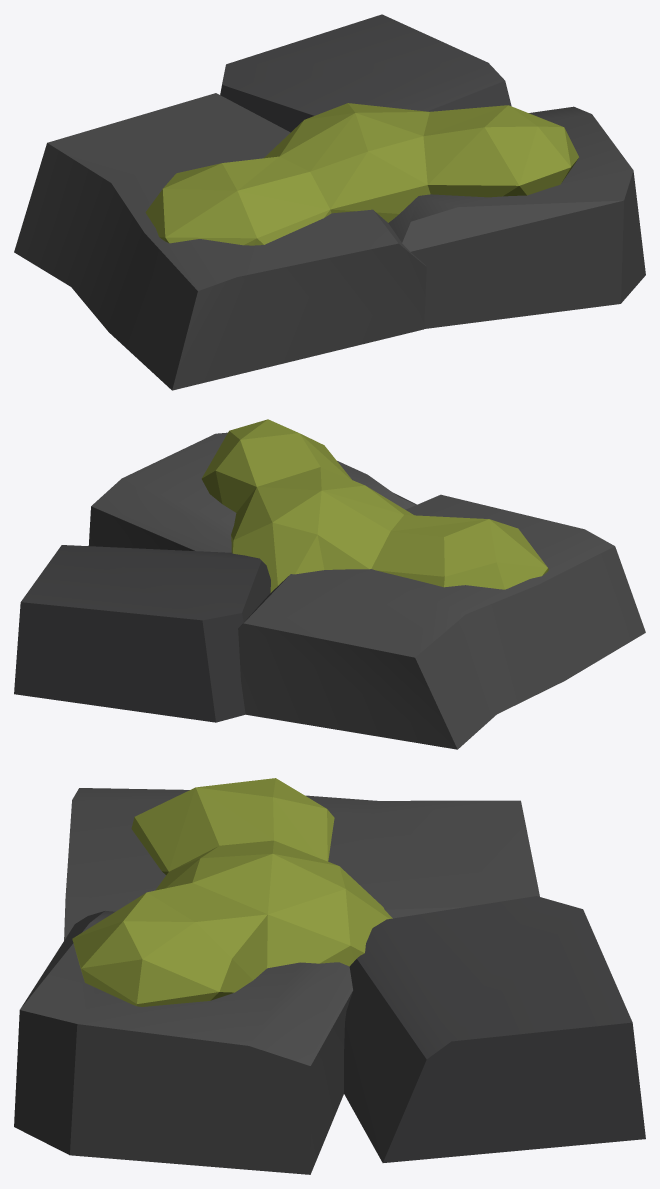
File: ea01_env_road_cobble_moss_02c_pre_lev1.glb
3 renders of one model, top to bottom at view 1: azimuth 30°, elevation 25°; view 2: azimuth 150°, elevation 25°; view 3: azimuth 270°, elevation 25°, orthographic. The views are drawn at different scales.
Parts seen in each view (by area): view 1: ea01_env_road_cobble_moss_02c_pre_lev1; view 2: ea01_env_road_cobble_moss_02c_pre_lev1; view 3: ea01_env_road_cobble_moss_02c_pre_lev1.
Boxes of the visible parts, bbox=[...] form: ea01_env_road_cobble_moss_02c_pre_lev1: bbox=[14, 14, 645, 390]; ea01_env_road_cobble_moss_02c_pre_lev1: bbox=[14, 419, 645, 749]; ea01_env_road_cobble_moss_02c_pre_lev1: bbox=[14, 778, 645, 1174].
Bounding box in the file's own units: 1.22 × 0.4226 × 1.1.
Materials: 1 (1 with a texture image).
